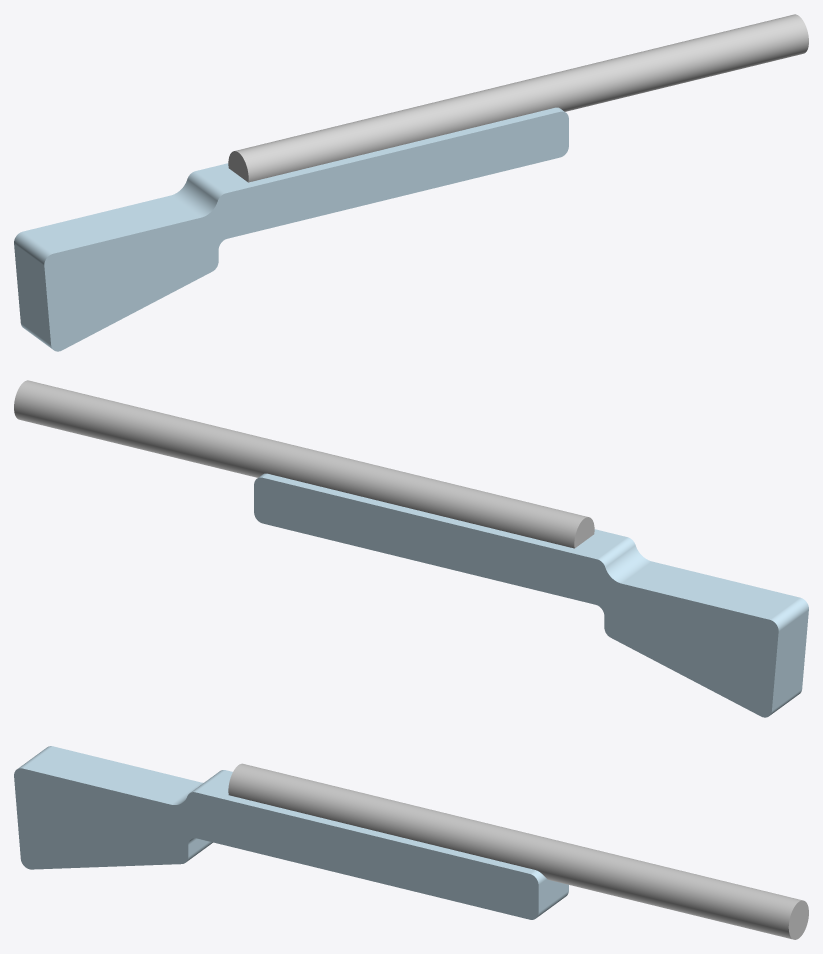
Rendered from Gun Assembly.gltf.
3 views of the same model, one above another, from view 1: azimuth 30°, elevation 25°; view 2: azimuth 150°, elevation 25°; view 3: azimuth 330°, elevation 25° (orthographic).
Visible parts, largest first — view 1: Butt, Barrel; view 2: Butt, Barrel; view 3: Butt, Barrel.
Part boxes in pixels (<box>): Butt: <box>14,107,568,351</box>; Barrel: <box>228,14,808,182</box>; Butt: <box>254,473,808,717</box>; Barrel: <box>14,380,594,548</box>; Butt: <box>14,746,568,919</box>; Barrel: <box>228,763,808,939</box>.
Size of the model in its own units: 1.12 by 0.1946 by 0.0762.
